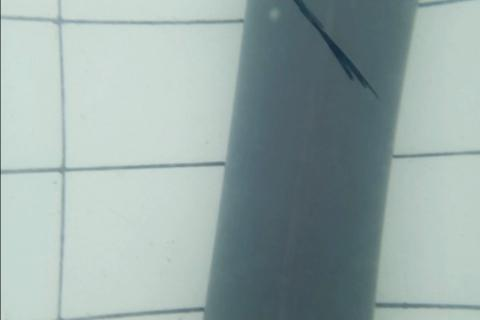keretakan: (291, 0, 381, 102)
